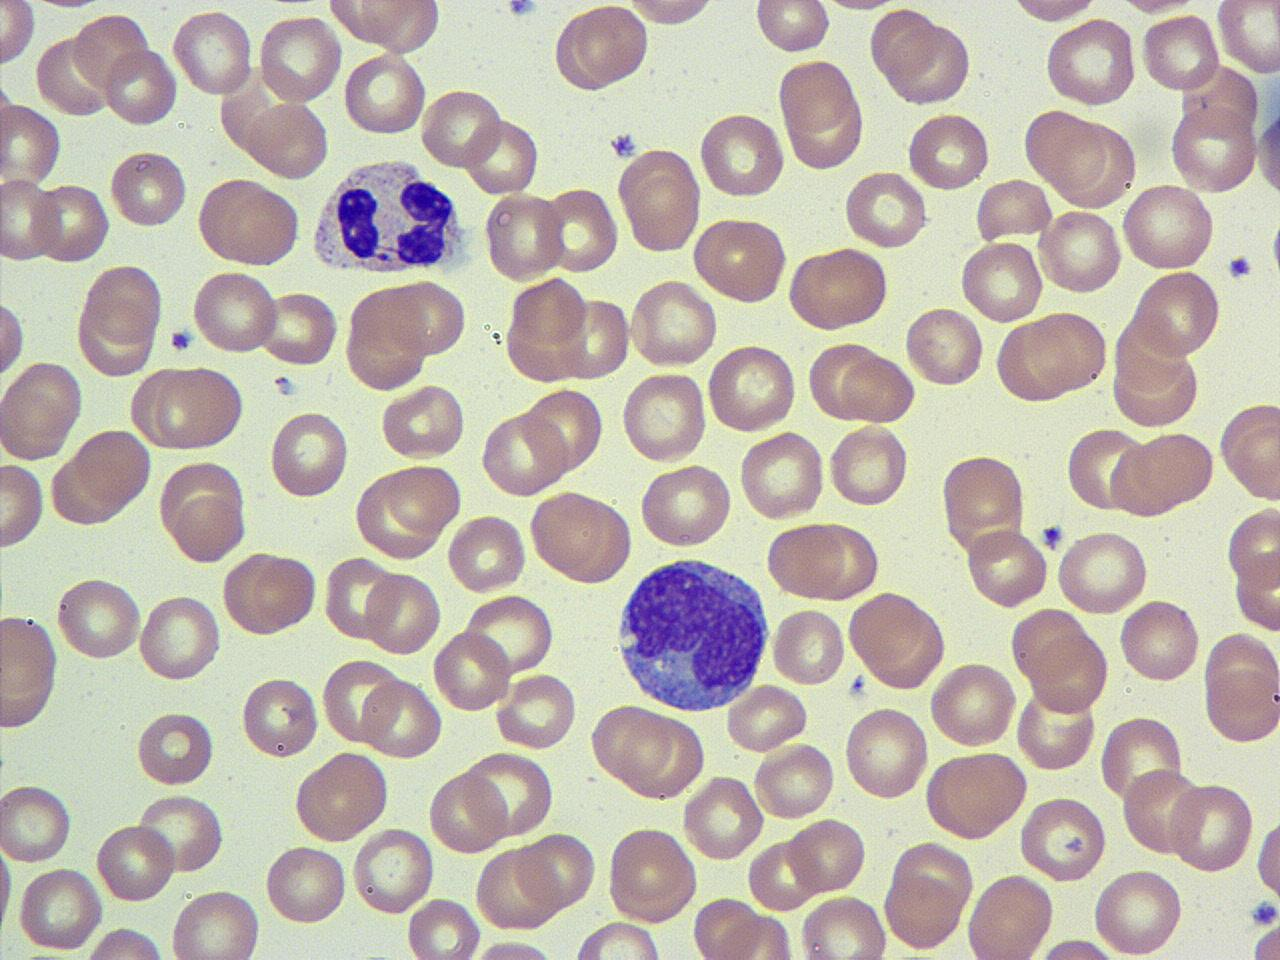Platelets: (1224, 252, 1254, 282), (1248, 898, 1278, 928), (168, 324, 196, 354), (1041, 522, 1067, 551), (610, 132, 636, 158), (273, 372, 297, 397), (505, 0, 536, 19)
RBC: (882, 837, 978, 953), (527, 486, 636, 586), (847, 588, 950, 692), (155, 456, 251, 564), (193, 176, 303, 270), (923, 748, 1029, 842), (763, 519, 882, 602), (784, 244, 892, 334), (690, 212, 789, 308), (604, 824, 699, 924), (938, 452, 1029, 556), (292, 748, 390, 844), (1118, 181, 1218, 275), (343, 284, 428, 394), (704, 340, 799, 438), (616, 147, 702, 255), (625, 276, 720, 372), (1043, 14, 1139, 109), (842, 702, 930, 805), (1167, 102, 1261, 196), (1090, 866, 1186, 958), (1166, 778, 1256, 876), (620, 367, 709, 466), (0, 358, 84, 462), (220, 550, 319, 638), (1134, 266, 1226, 360), (638, 460, 733, 550), (926, 660, 1020, 750), (480, 406, 571, 498), (15, 861, 105, 954), (256, 11, 342, 108), (1098, 711, 1186, 805), (1054, 528, 1148, 616), (964, 871, 1056, 960), (154, 362, 246, 451), (738, 428, 826, 521), (464, 590, 558, 677), (350, 824, 437, 918), (883, 18, 974, 107), (467, 748, 555, 840), (340, 50, 432, 138), (698, 108, 786, 200), (1018, 794, 1110, 882), (55, 572, 144, 662), (170, 6, 255, 100), (268, 406, 351, 502), (190, 267, 279, 356), (138, 788, 226, 878), (826, 419, 911, 512), (481, 189, 566, 282), (262, 840, 349, 930), (681, 772, 766, 864), (138, 592, 222, 685), (474, 844, 561, 932), (70, 425, 154, 516), (1121, 764, 1203, 857), (959, 238, 1046, 325), (1038, 208, 1124, 296), (904, 108, 992, 194), (1117, 596, 1201, 686), (992, 314, 1074, 406), (1022, 309, 1108, 396), (431, 626, 514, 716), (524, 384, 606, 475), (542, 182, 622, 275), (1202, 653, 1280, 747), (0, 610, 61, 730), (842, 166, 928, 251), (94, 819, 178, 906), (1014, 686, 1098, 772), (1024, 105, 1107, 192), (1064, 425, 1146, 513), (364, 566, 442, 658), (1139, 10, 1223, 95), (246, 98, 331, 182), (427, 768, 508, 856), (588, 701, 672, 785), (82, 261, 165, 346), (419, 87, 504, 170), (360, 674, 442, 760), (378, 380, 466, 460), (570, 3, 652, 88), (752, 739, 837, 820), (240, 674, 320, 760), (784, 815, 868, 896), (322, 552, 397, 642), (169, 888, 264, 959), (516, 830, 598, 912), (446, 511, 528, 593), (965, 528, 1047, 610), (380, 461, 465, 540), (34, 181, 113, 266), (1132, 428, 1218, 506), (324, 0, 443, 56), (259, 288, 340, 370), (904, 305, 984, 388), (492, 672, 576, 751), (775, 57, 857, 137), (388, 277, 468, 359), (134, 707, 216, 787), (71, 10, 150, 93), (0, 778, 74, 866), (806, 339, 885, 421), (770, 605, 848, 688), (724, 680, 811, 754), (109, 148, 188, 229), (466, 114, 542, 198), (560, 294, 632, 382), (798, 892, 890, 960), (103, 46, 178, 128), (510, 274, 590, 348), (551, 7, 619, 94), (0, 100, 64, 188), (839, 352, 914, 425), (867, 7, 940, 81), (973, 176, 1052, 244), (1226, 406, 1280, 505), (0, 177, 61, 264), (404, 893, 483, 960), (690, 892, 766, 960), (1214, 0, 1278, 78), (1226, 502, 1280, 590), (0, 461, 49, 553), (752, 0, 832, 56), (569, 920, 665, 960), (1232, 556, 1280, 633), (78, 924, 168, 960), (1253, 93, 1279, 206), (621, 0, 723, 28), (1252, 808, 1280, 908), (0, 1, 37, 68), (0, 289, 26, 383), (1006, 0, 1099, 26), (464, 938, 567, 960)
WBC: (612, 551, 774, 716), (307, 152, 474, 280)
